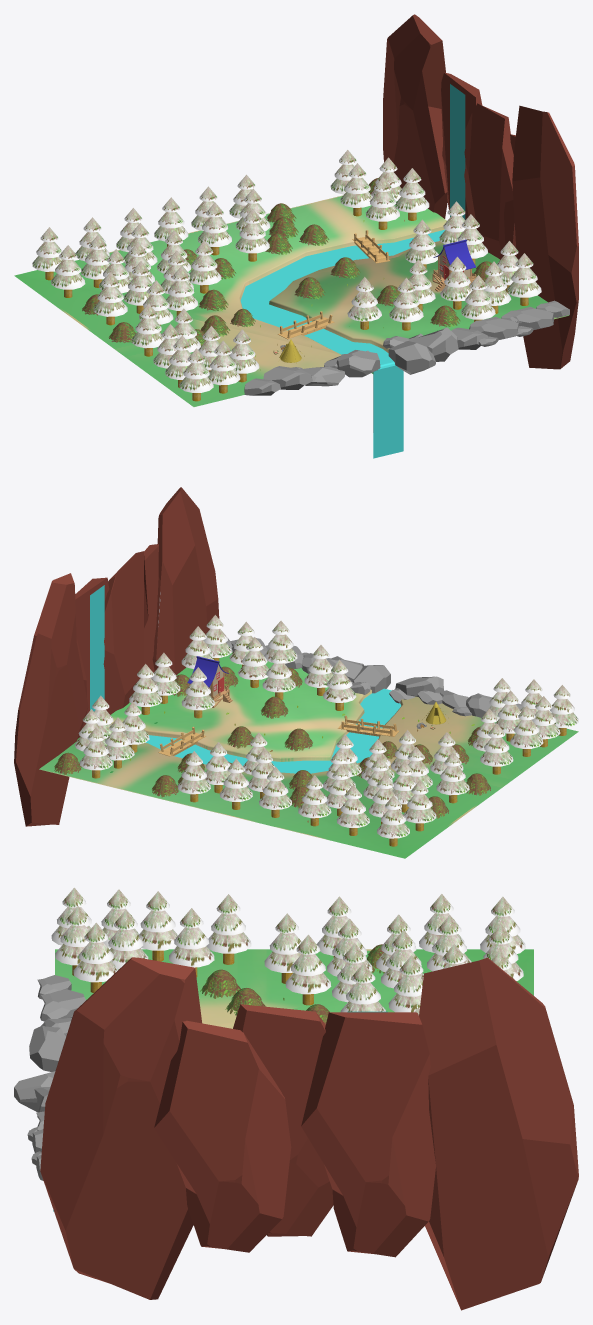
File: Forest.fbx
3 renders of one model, top to bottom at view 1: azimuth 30°, elevation 25°; view 2: azimuth 150°, elevation 25°; view 3: azimuth 270°, elevation 25°, orthographic. The views are drawn at different scales.
Parts seen in each view (by area): view 1: rock04.007, Forest_tree, forest, river, Forest_grass, Wood_House, Cylinder.028, Bridge002, Bridge001; view 2: rock04.007, Forest_tree, forest, Forest_grass, river, Wood_House, Cylinder.028, Bridge002, Bridge001; view 3: rock04.007, Forest_tree, forest, Forest_grass.
Boxes of the visible parts, x1,y1,x2,y2 form: rock04.007: (244,14,578,395); Forest_tree: (32,150,541,401); forest: (14,195,569,406); river: (240,84,465,458); Forest_grass: (82,178,491,357); Wood_House: (432,239,476,291); Cylinder.028: (440,256,472,309); Bridge002: (278,311,334,339); Bridge001: (352,230,389,263); rock04.007: (14,487,523,826); Forest_tree: (74,615,578,846); forest: (39,652,578,858); Forest_grass: (54,666,490,818); river: (90,585,401,773); Wood_House: (186,656,232,707); Cylinder.028: (238,637,268,687); Bridge002: (338,715,398,736); Bridge001: (158,726,205,756); rock04.007: (14,957,578,1310); Forest_tree: (51,887,525,1015); forest: (55,949,533,1028); Forest_grass: (200,944,384,1024).
Bounding box in the file's own units: 4385 × 2819 × 3935.
Materials: 8 (7 with a texture image).
